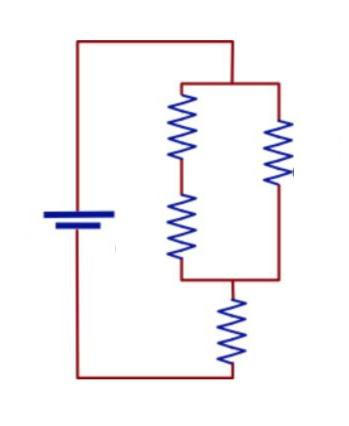resistor: (155, 183, 214, 277), (209, 282, 259, 378), (159, 80, 206, 169), (253, 103, 299, 192)
